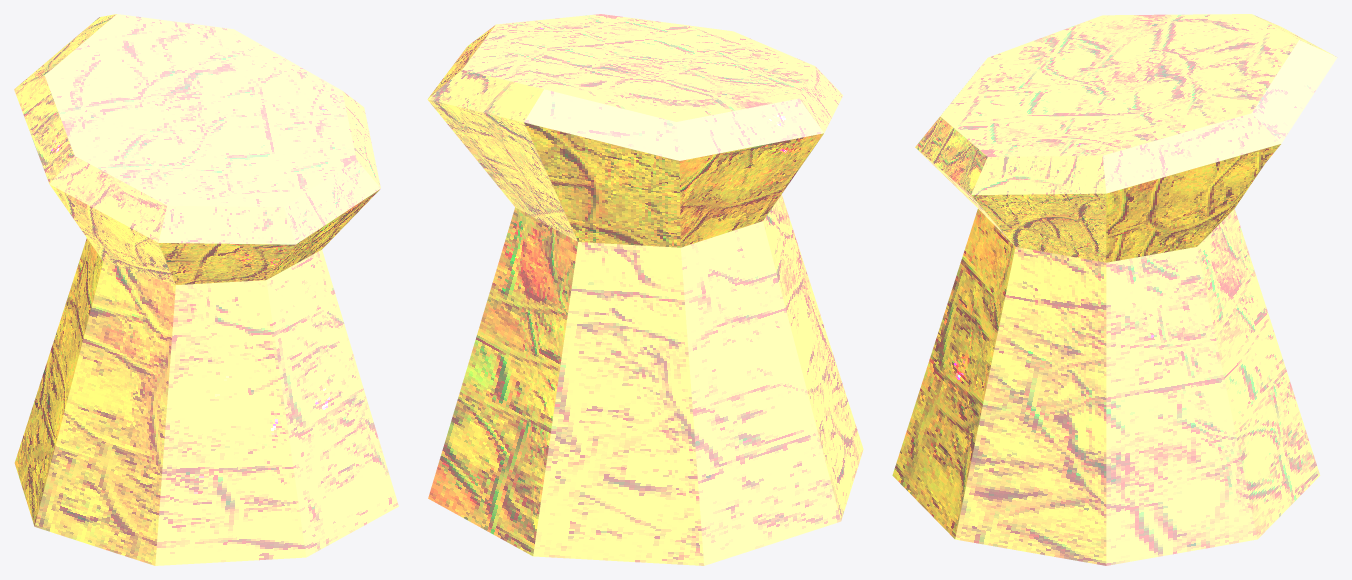
File: barstool.glb
The picture shows the model from 3 angles, left to right: view 1: azimuth 30°, elevation 25°; view 2: azimuth 150°, elevation 25°; view 3: azimuth 270°, elevation 25°; orthographic projection. The views are drawn at different scales.
Visible parts, largest first — view 1: barstool; view 2: barstool; view 3: barstool.
Boxes of the visible parts, x1,y1,x2,y2 form: barstool: [14, 14, 398, 565]; barstool: [427, 14, 863, 565]; barstool: [892, 14, 1337, 565].
Size of the model in its own units: 0.72 by 0.8089 by 0.7491.
